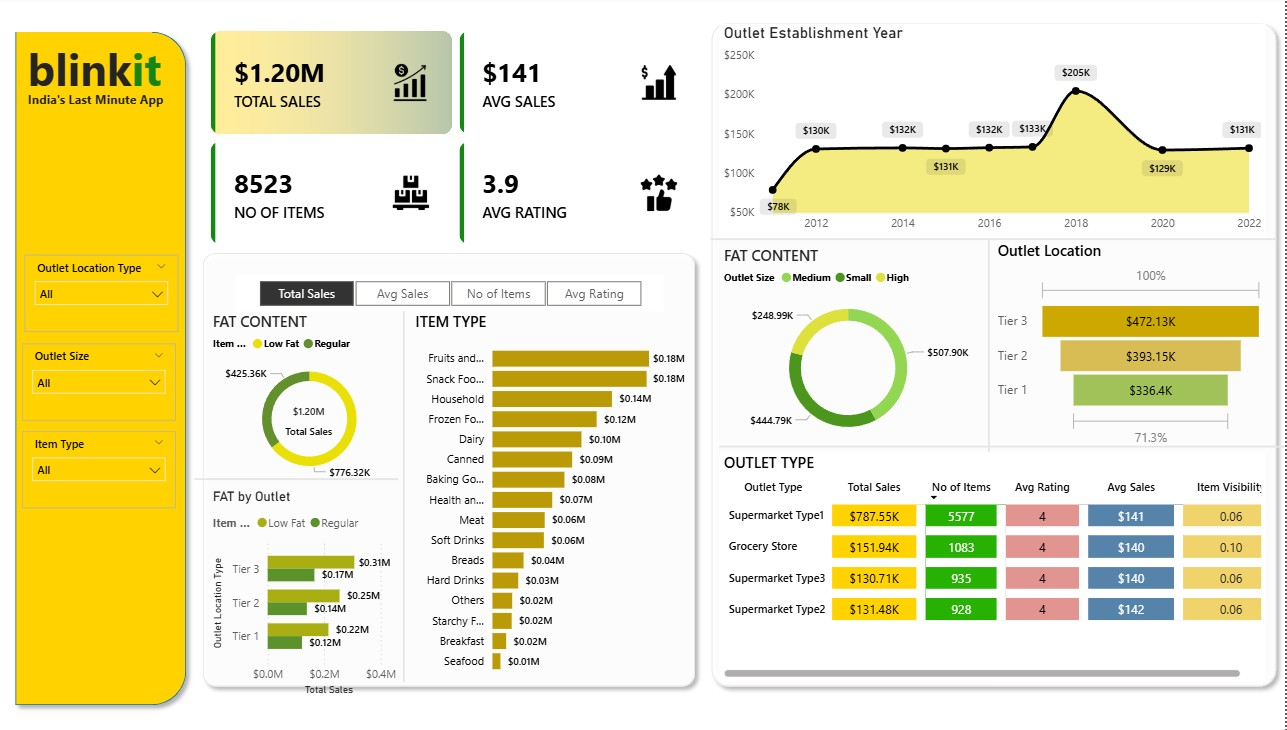

The dashboard page shown, as its layout file describes it:
{"tool":"powerbi","page":{"name":"Page 1","canvas":[1400,800],"ordinal":0},"visuals":[{"type":"shape","box":[10.7,29.5,203.8,750],"z":0},{"type":"textbox","box":[28.2,40.2,168.9,73.7],"z":1000},{"type":"textbox","box":[28.2,97.9,166.2,32.2],"z":2000},{"type":"cardVisual","fields":{"Data":["BlinkIT Grocery Data.Total Sales","BlinkIT Grocery Data.Avg Sales","BlinkIT Grocery Data.No of Items","BlinkIT Grocery Data.Avg Rating"]},"box":[214.5,20.1,569.7,269.4],"z":3000},{"type":"shape","box":[214.7,270.4,553,489.1],"z":4000},{"type":"donutChart","title":"FAT CONTENT","fields":{"Category":["BlinkIT Grocery Data.Item Fat Content"],"Y":["Sum(BlinkIT Grocery Data.Sales)"]},"box":[229.6,342.4,220.1,191.6],"z":5000},{"type":"slicer","fields":{"Values":["Metrics.Metrics"]},"box":[259.5,303,465,40],"z":6000},{"type":"clusteredBarChart","title":"FAT by Outlet","fields":{"Y":["BlinkIT Grocery Data.Total Sales"],"Category":["BlinkIT Grocery Data.Outlet Location Type"],"Series":["BlinkIT Grocery Data.Item Fat Content"]},"box":[229.6,535.3,220.1,229.6],"z":7000},{"type":"card","fields":{"Values":["BlinkIT Grocery Data.Total Sales"]},"box":[305.7,438.9,66.6,44.8],"z":8000},{"type":"shape","box":[434.8,342.4,14.9,403.5],"z":9000},{"type":"shape","box":[214.7,514.9,221.5,20.4],"z":10000},{"type":"barChart","title":"ITEM TYPE","fields":{"Y":["BlinkIT Grocery Data.Total Sales"],"Category":["BlinkIT Grocery Data.Item Type"]},"box":[449.7,342.4,303,403.5],"z":11000},{"type":"shape","box":[767.7,20.4,631.8,739.1],"z":12000},{"type":"lineChart","title":"Outlet Establishment Year","fields":{"Category":["BlinkIT Grocery Data.Outlet Establishment Year"],"Y":["BlinkIT Grocery Data.Total Sales"]},"box":[785.3,29.9,593.8,235.1],"z":13000},{"type":"donutChart","title":"FAT CONTENT","fields":{"Category":["BlinkIT Grocery Data.Outlet Size"],"Y":["BlinkIT Grocery Data.Total Sales"]},"box":[785.3,270.4,280,225],"z":14000},{"type":"shape","box":[1072,264.9,12.2,231],"z":15000},{"type":"funnel","title":"Outlet Location","fields":{"Y":["Sum(BlinkIT Grocery Data.Sales)"],"Category":["BlinkIT Grocery Data.Outlet Location Type"]},"box":[1082.9,264.9,298.9,231],"z":16000},{"type":"shape","box":[785.3,483.7,614.1,12.2],"z":17000},{"type":"shape","box":[775.8,258.2,614.1,12.2],"z":18000},{"type":"pivotTable","title":"OUTLET TYPE","fields":{"Rows":["BlinkIT Grocery Data.Outlet Type"],"Values":["BlinkIT Grocery Data.Total Sales","BlinkIT Grocery Data.No of Items","BlinkIT Grocery Data.Avg Rating","BlinkIT Grocery Data.Avg Sales","Avg(BlinkIT Grocery Data.Item Visibility)"]},"box":[785.3,495.9,593.8,250],"z":19000},{"type":"slicer","fields":{"Values":["BlinkIT Grocery Data.Outlet Location Type"]},"box":[29.9,281.3,167.1,84.2],"z":20000},{"type":"slicer","fields":{"Values":["BlinkIT Grocery Data.Outlet Size"]},"box":[27.2,377.7,167.1,84.2],"z":21000},{"type":"slicer","fields":{"Values":["BlinkIT Grocery Data.Item Type"]},"box":[27.2,472.8,167.1,84.2],"z":22000}]}

Visuals, with their boxes in screenshot pixels (x1, y1, x2, y2), scaled from the page's 1400x800 canvas onto the 1287x730 screenshot:
shape: <bbox>10, 27, 197, 711</bbox>
textbox: <bbox>26, 37, 181, 104</bbox>
textbox: <bbox>26, 89, 179, 119</bbox>
cardVisual - BlinkIT Grocery Data.Total Sales x BlinkIT Grocery Data.Avg Sales: <bbox>197, 18, 721, 264</bbox>
shape: <bbox>197, 247, 706, 693</bbox>
"FAT CONTENT" donutChart: <bbox>211, 312, 413, 487</bbox>
slicer - Metrics.Metrics: <bbox>239, 276, 666, 313</bbox>
"FAT by Outlet" clusteredBarChart: <bbox>211, 488, 413, 698</bbox>
card - BlinkIT Grocery Data.Total Sales: <bbox>281, 400, 342, 441</bbox>
shape: <bbox>400, 312, 413, 681</bbox>
shape: <bbox>197, 470, 401, 488</bbox>
"ITEM TYPE" barChart: <bbox>413, 312, 692, 681</bbox>
shape: <bbox>706, 19, 1286, 693</bbox>
"Outlet Establishment Year" lineChart: <bbox>722, 27, 1268, 242</bbox>
"FAT CONTENT" donutChart: <bbox>722, 247, 979, 452</bbox>
shape: <bbox>985, 242, 997, 453</bbox>
"Outlet Location" funnel: <bbox>995, 242, 1270, 453</bbox>
shape: <bbox>722, 441, 1286, 453</bbox>
shape: <bbox>713, 236, 1278, 247</bbox>
"OUTLET TYPE" pivotTable: <bbox>722, 453, 1268, 681</bbox>
slicer - BlinkIT Grocery Data.Outlet Location Type: <bbox>27, 257, 181, 334</bbox>
slicer - BlinkIT Grocery Data.Outlet Size: <bbox>25, 345, 179, 421</bbox>
slicer - BlinkIT Grocery Data.Item Type: <bbox>25, 431, 179, 508</bbox>
